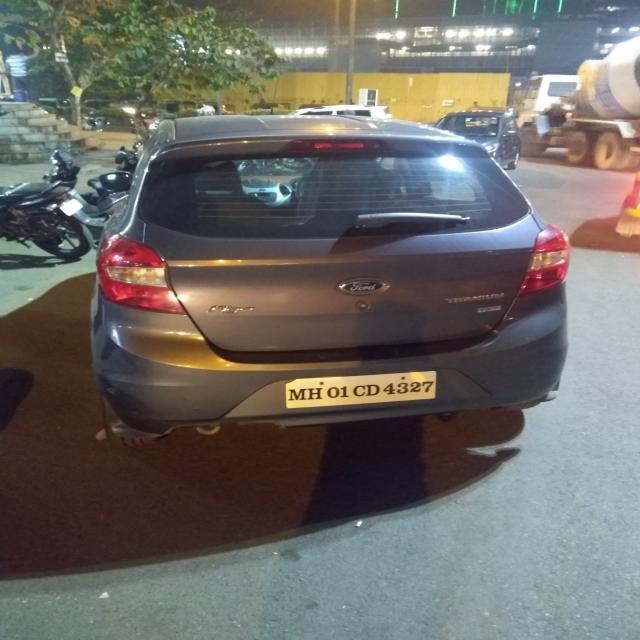Number-Plate: (288, 374, 439, 406)
